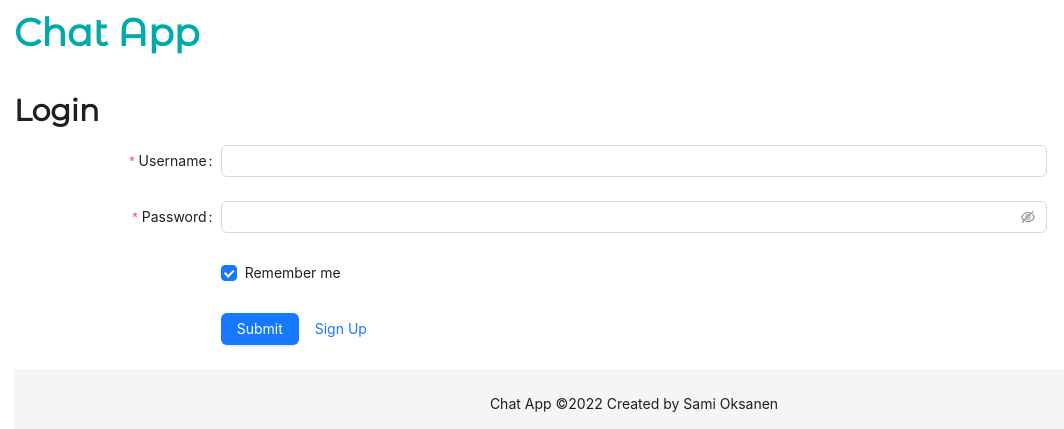
LoginForm › shows validation errors for empty fields
What coordinates should you click on to do the following:
click the button "Submit"
I would click on:
 (260, 329)
Its box is [221,313,299,345].
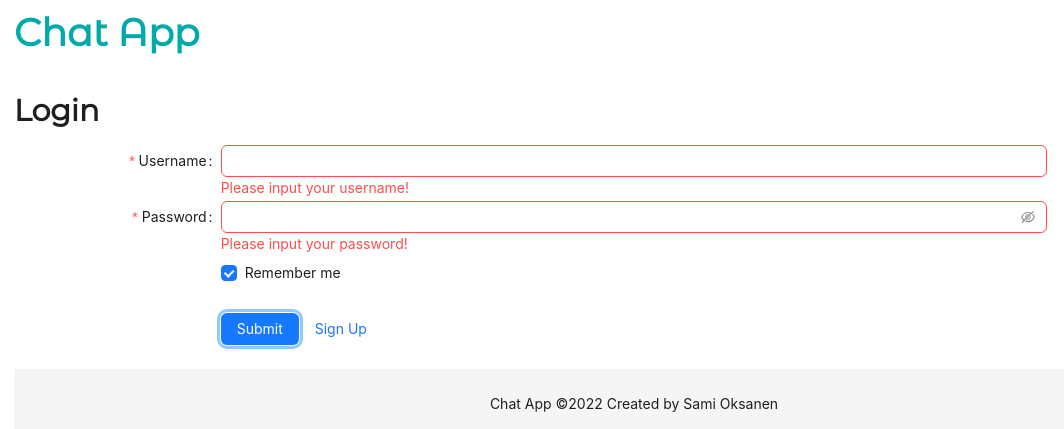
Expected: the text "Please input your username!" is shown, [221,179,409,196]
Expected: the text "Please input your password!" is shown, [221,235,408,252]
